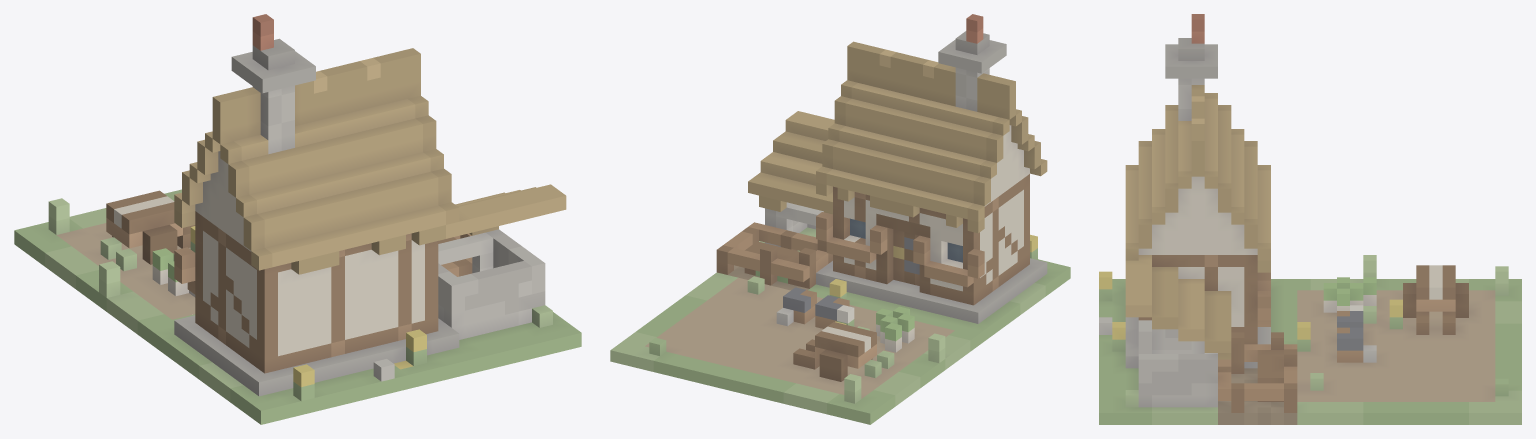
The model's file is pig_farm.glb.
The picture shows the model from 3 angles, left to right: view 1: azimuth 30°, elevation 25°; view 2: azimuth 150°, elevation 25°; view 3: azimuth 270°, elevation 25°; orthographic projection. The views are drawn at different scales.
Visible parts, largest first — view 1: pig_farm; view 2: pig_farm; view 3: pig_farm.
Boxes of the visible parts, <box> form: pig_farm: <box>14,14,581,424</box>; pig_farm: <box>610,14,1070,424</box>; pig_farm: <box>1099,14,1521,424</box>.
Bounding box in the file's own units: 3 × 3.12 × 4.
